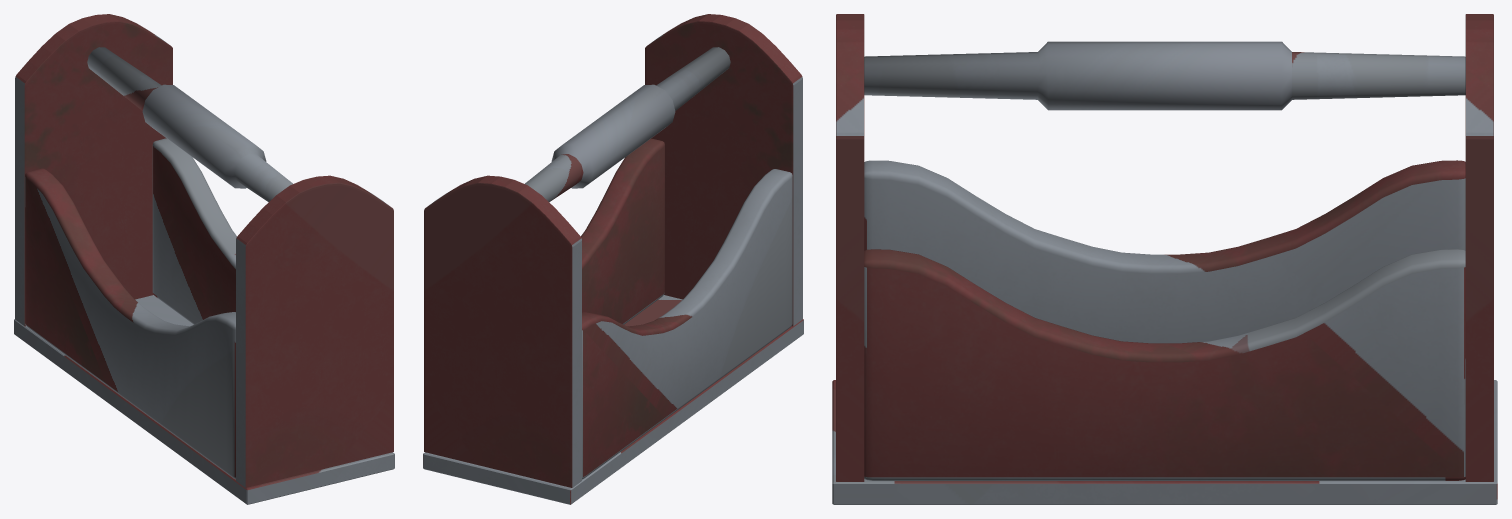
The model's file is ToolboxFinal.fbx.
3 renders of one model, left to right at view 1: azimuth 30°, elevation 25°; view 2: azimuth 150°, elevation 25°; view 3: azimuth 270°, elevation 25°, orthographic. The views are drawn at different scales.
Parts seen in each view (by area): view 1: ToolboxGableRight_low, ToolboxSideBack_low, ToolboxGableLeft_low, ToolboxSideFront_low, ToolboxHandle_low, ToolBoxBottom_low; view 2: ToolboxGableLeft_low, ToolboxSideBack_low, ToolboxGableRight_low, ToolboxSideFront_low, ToolboxHandle_low, ToolBoxBottom_low; view 3: ToolboxSideFront_low, ToolboxSideBack_low, ToolboxHandle_low, ToolBoxBottom_low, ToolboxGableRight_low, ToolboxGableLeft_low.
Boxes of the visible parts, box(x1,y1,x2,y2) form: ToolboxGableRight_low: box(236, 175, 393, 487); ToolboxSideBack_low: box(25, 168, 235, 479); ToolboxGableLeft_low: box(15, 14, 172, 326); ToolboxSideFront_low: box(152, 138, 236, 324); ToolboxHandle_low: box(87, 47, 292, 202); ToolBoxBottom_low: box(14, 295, 394, 504); ToolboxGableLeft_low: box(424, 175, 581, 487); ToolboxSideBack_low: box(582, 169, 792, 479); ToolboxGableRight_low: box(645, 14, 802, 326); ToolboxSideFront_low: box(581, 138, 664, 324); ToolboxHandle_low: box(525, 47, 730, 202); ToolBoxBottom_low: box(423, 295, 803, 504); ToolboxSideFront_low: box(864, 249, 1465, 480); ToolboxSideBack_low: box(864, 160, 1465, 343); ToolboxHandle_low: box(864, 41, 1465, 110); ToolBoxBottom_low: box(832, 380, 1497, 504); ToolboxGableRight_low: box(836, 14, 864, 481); ToolboxGableLeft_low: box(1465, 14, 1493, 481).
Bounding box in the file's own units: 193 × 373 × 524.
